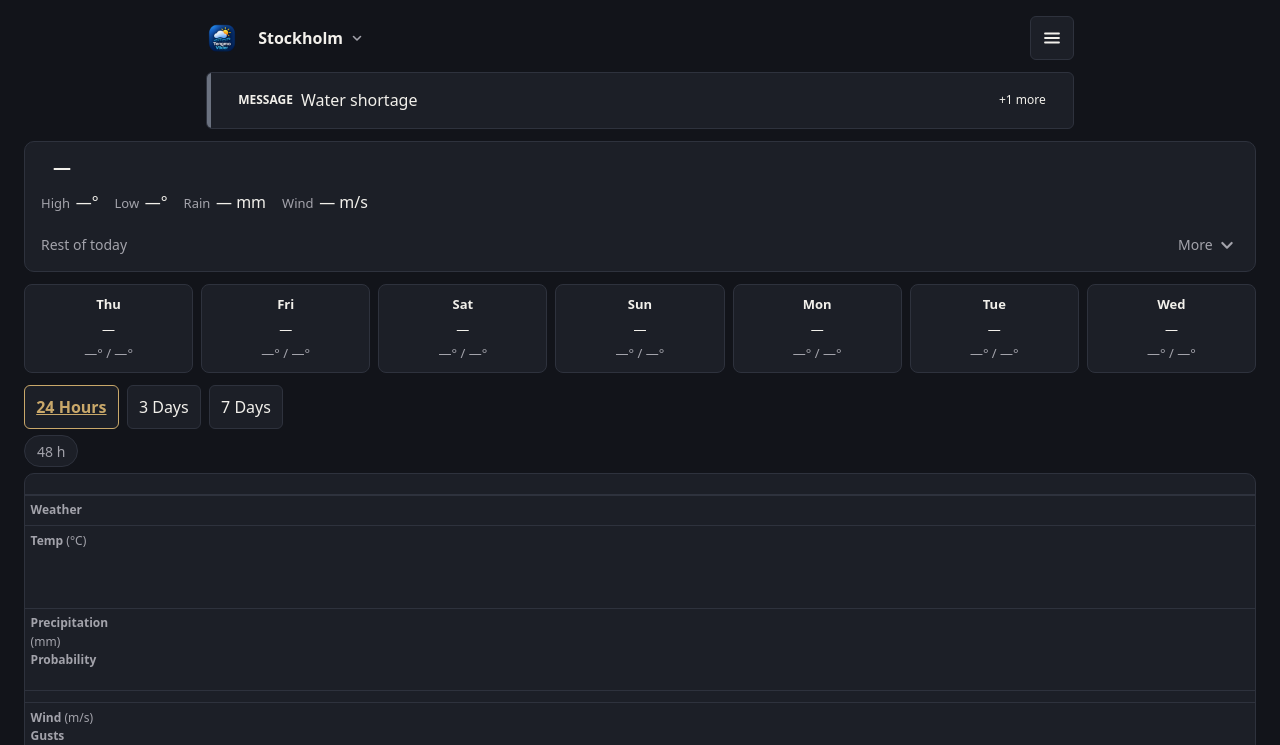
Test: WarningBanner (028-severe-weather-warnings) › lists an active warning ahead of an upcoming one regardless of severity, each clearly labeled
Click the button "Message Water shortage +1 more": x=266, y=100 [227,83,1057,119]
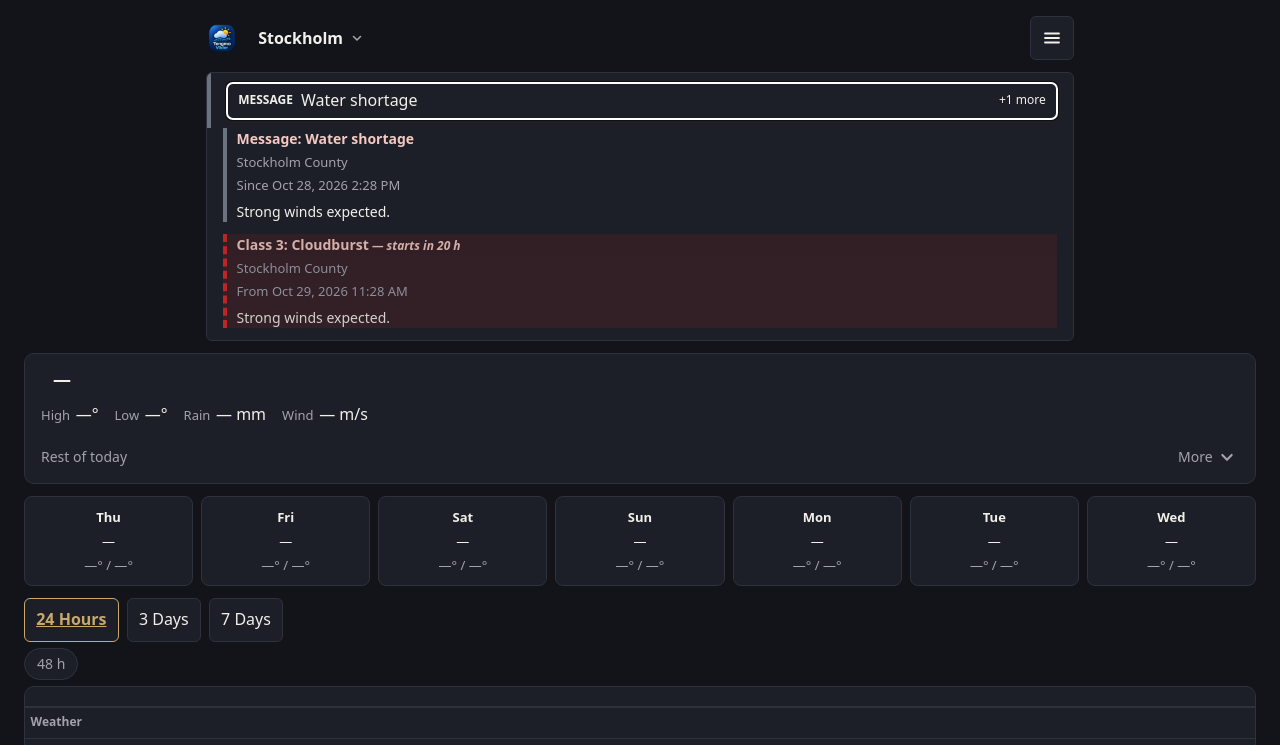
expect the heading "Message: Water shortage" does not show "starts in": met, box [237,129,414,148]
expect the heading "Message: Water shortage" is shown: met, box [237,129,414,148]
expect the heading "Class 3: Cloudburst — starts in 20 h" is shown: met, box [237,235,461,254]
